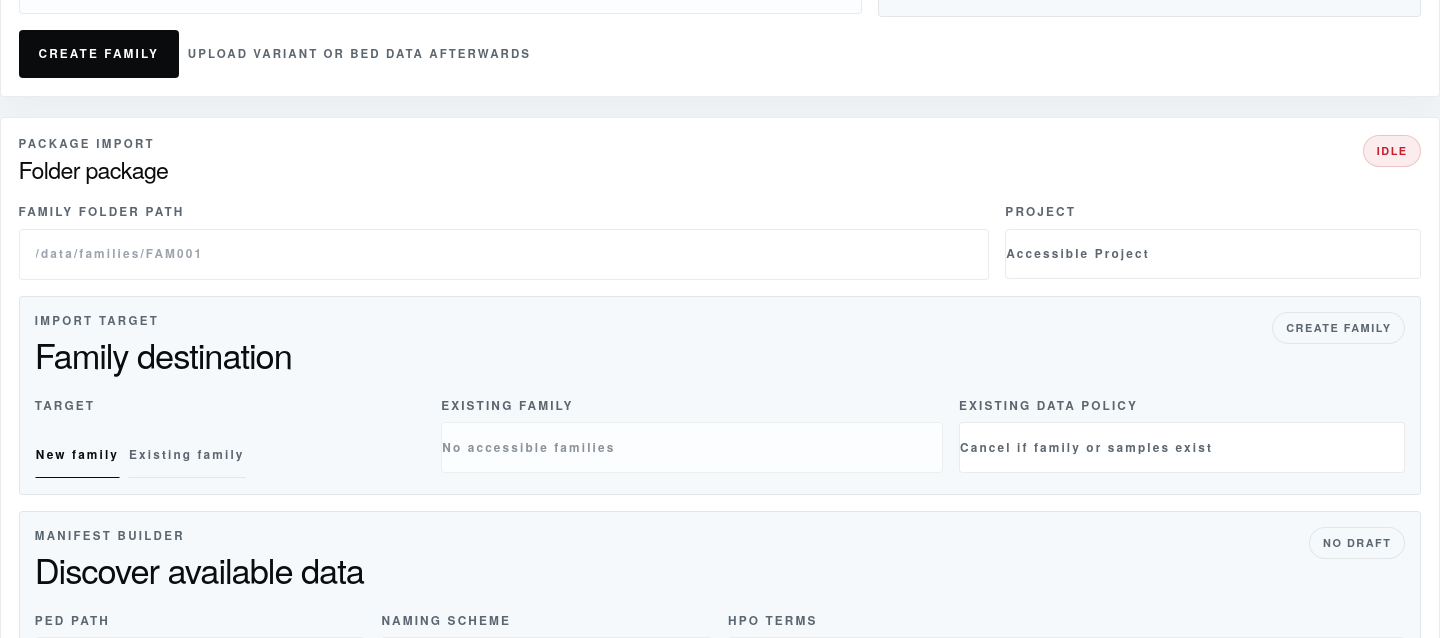
Test: FamilyIntakePage › starts an admin package dry run from a folder path
(page scrolled)
Expected: the heading "Folder package" is shown, [19,152,168,187]
In the field labelled "Family folder path": (504, 254) [19,229,989,280], type "/data/FAM-100"
(page scrolled)
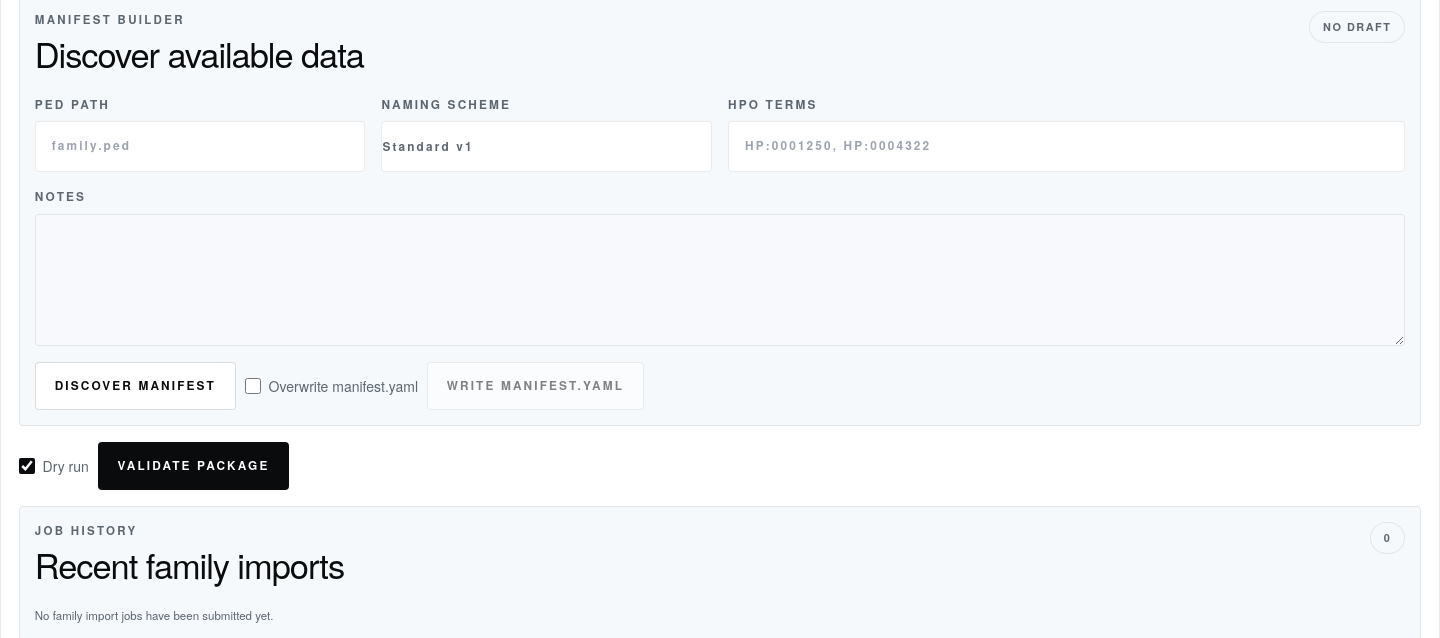
Click the button "Validate package": (193, 466) [98,442,289,490]
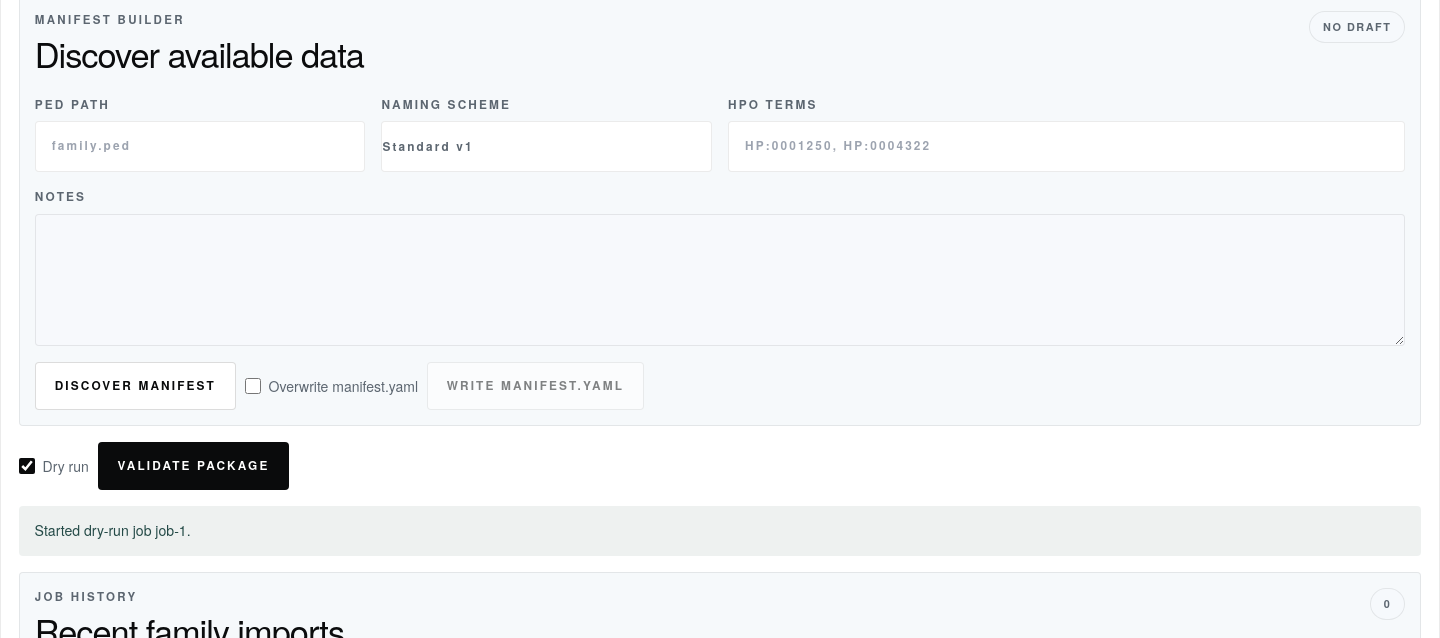
Now the text "Started dry-run job job-1." is shown, box [19,506,1421,556]
